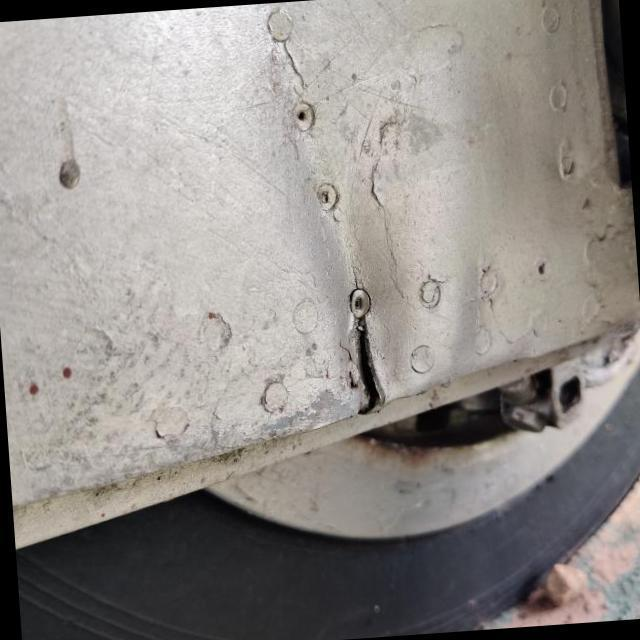Rupture: (321, 300, 423, 426)
